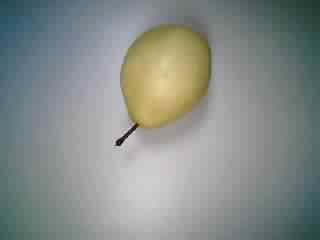pear: (95, 18, 225, 154)
